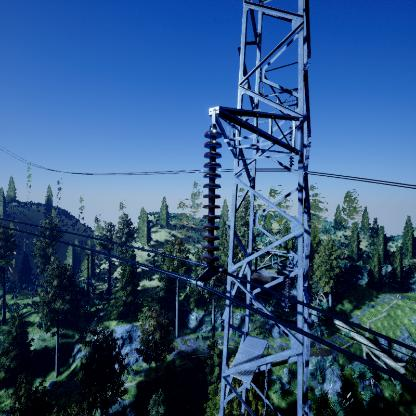insulator: (198, 127, 226, 268)
